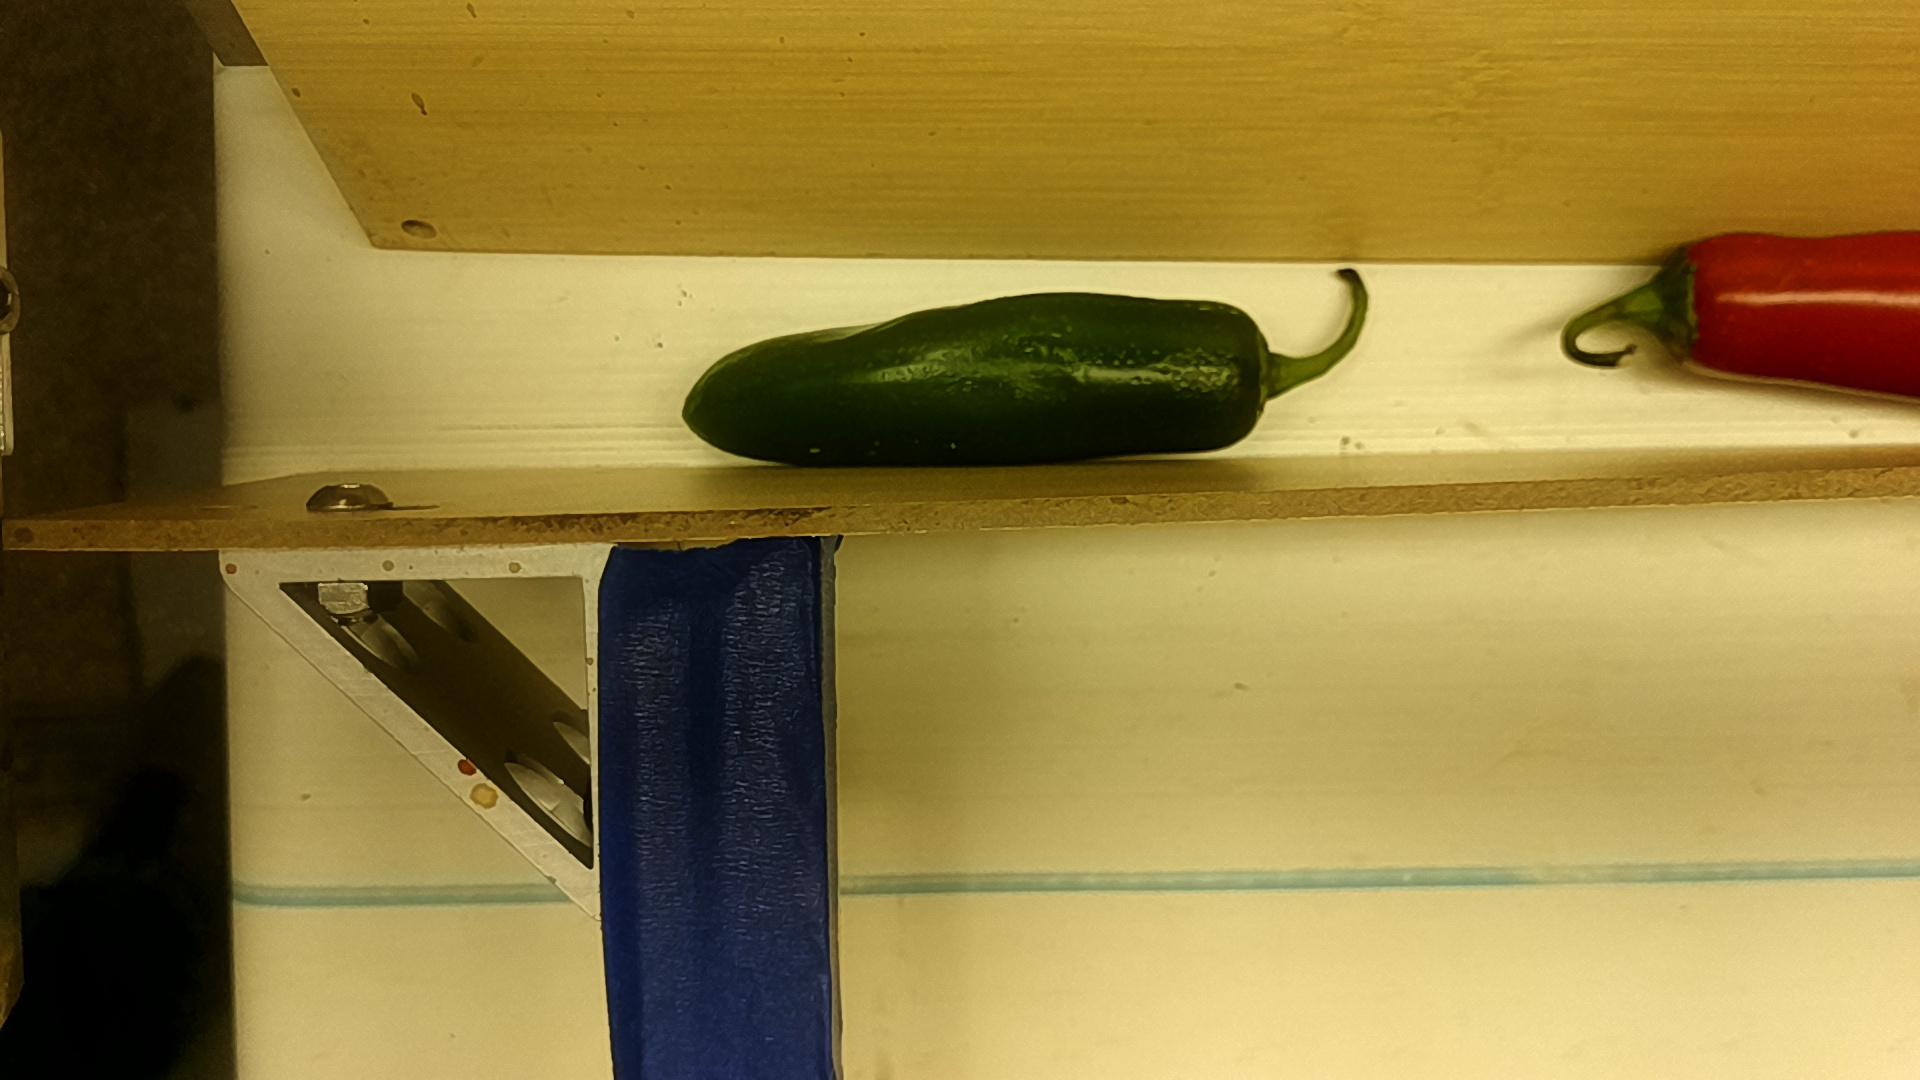Cut Point: (1654, 218, 1735, 386), (1212, 291, 1298, 448)
